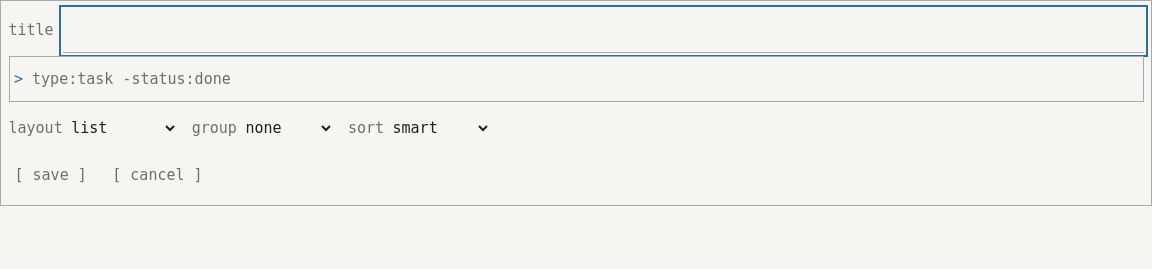
it: ViewEditor › shows the server's 400 inline, marks the error offset under the query, and keeps the input
Type "Bad" into the field labelled "title" at {"x": 603, "y": 30}, box x1=63 y1=8 x2=1144 y2=52
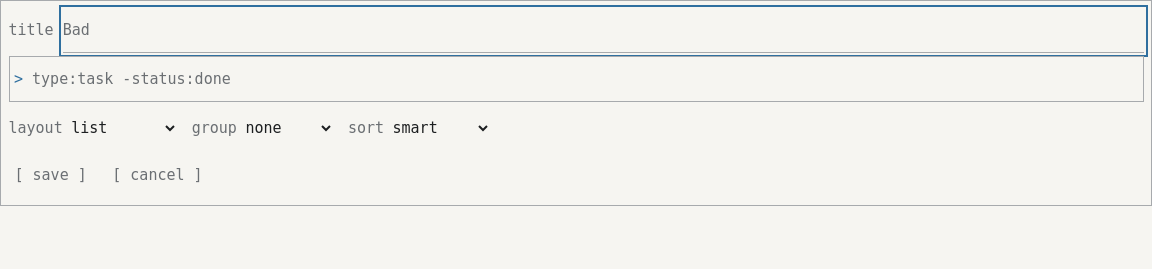
Type "tag:x priority:" into the field named "query" at {"x": 585, "y": 79}, box x1=32 y1=57 x2=1138 y2=101
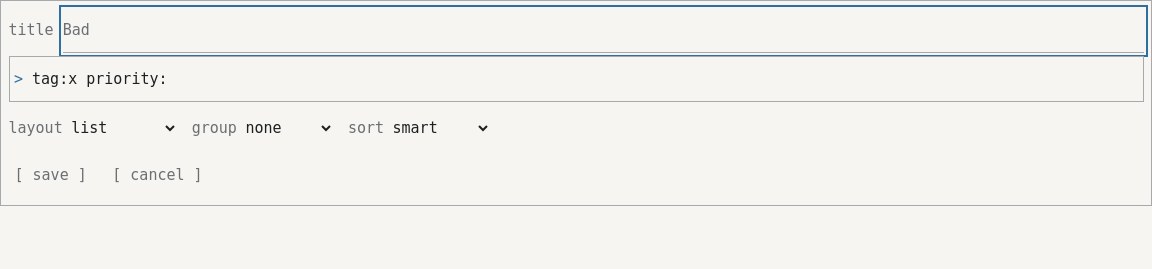
Click the button "[ save ]" at {"x": 51, "y": 176}, box x1=8 y1=154 x2=93 y2=198
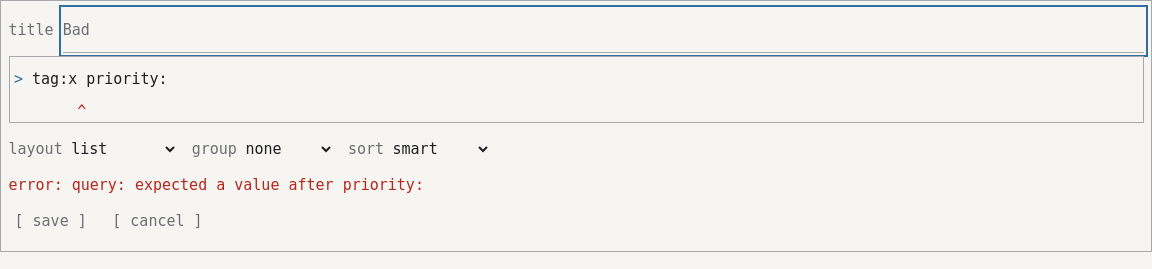
Check: the message reads "error: query: expected a value after priority:", box x1=8 y1=176 x2=424 y2=194
Check: the text "^" is shown, box x1=32 y1=102 x2=86 y2=120
